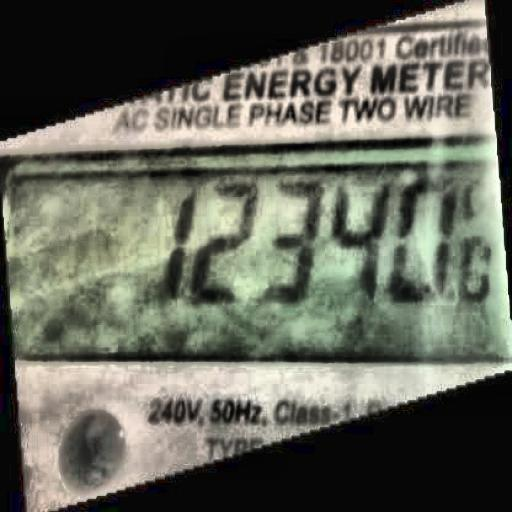DISPLAY_REGION: (3, 133, 510, 367)
SERIAL_REGION: (151, 176, 490, 306)
